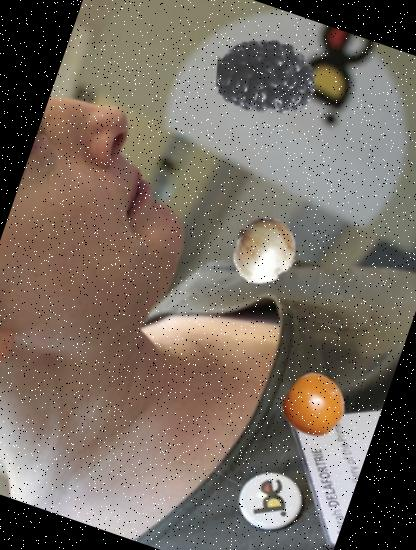Mulberry: (202, 12, 332, 142)
Onion: (219, 207, 309, 296)
Tomato: (274, 366, 356, 446)
